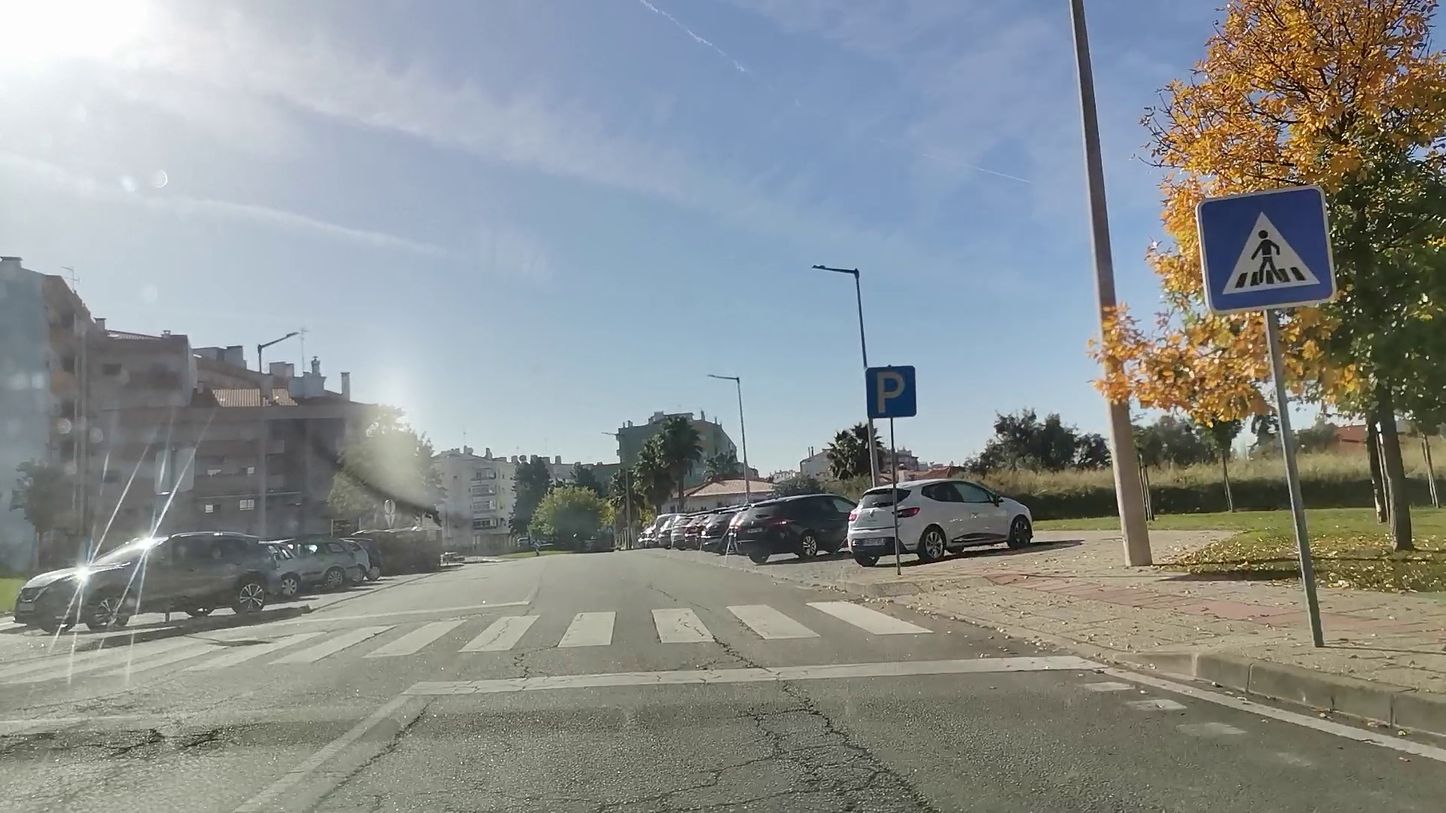Stairs: (0, 597, 931, 681)
